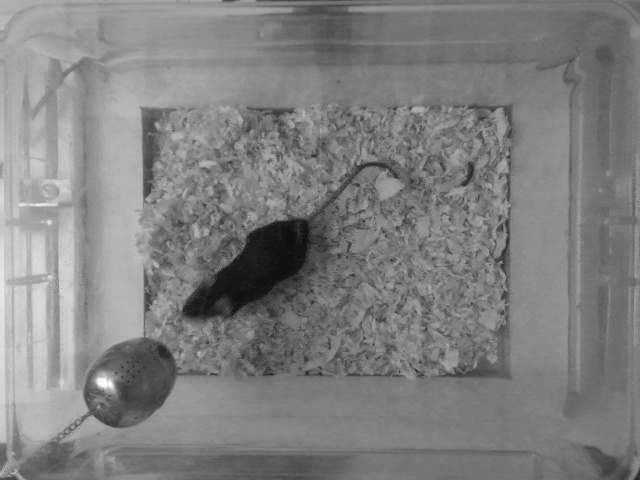mice: (175, 160, 400, 331)
